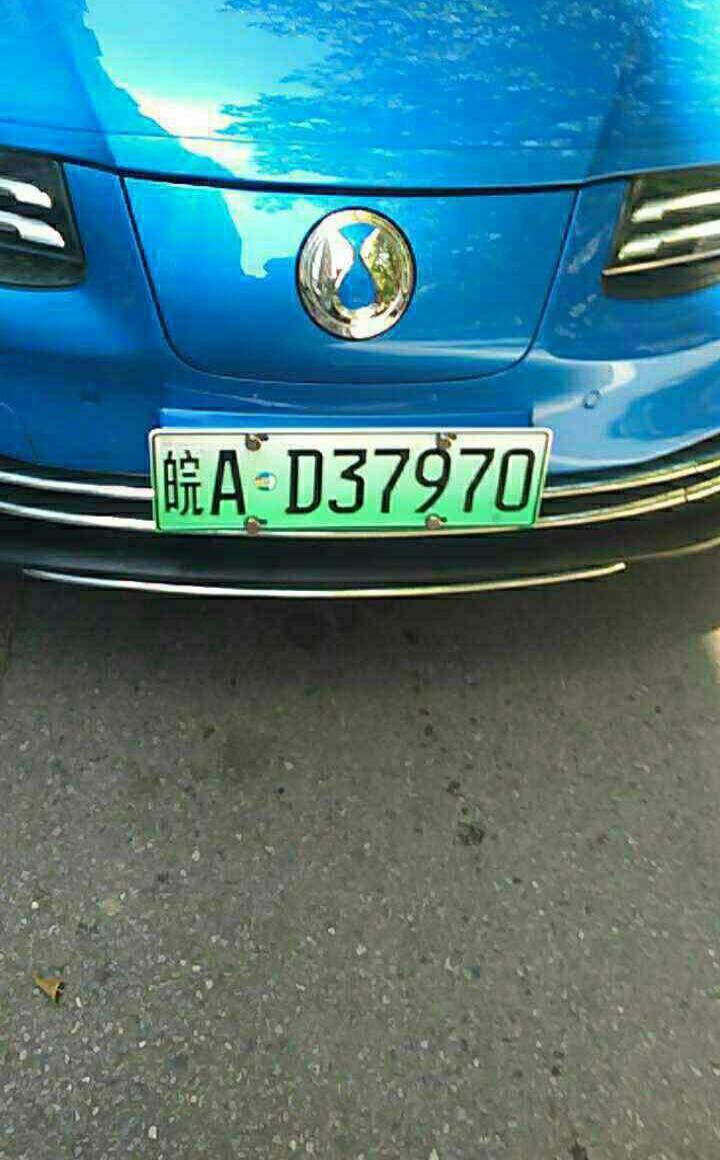car_id: (154, 433, 544, 527)
